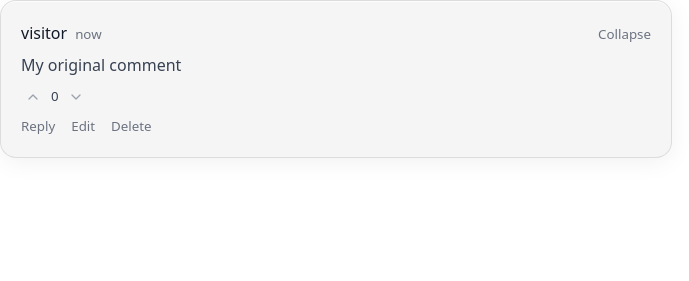
CommentItem edit › shows an Edit button and reveals a prefilled textarea when the comment belongs to the current user
Click the button "Edit" at (83, 127), box [71, 117, 95, 137]
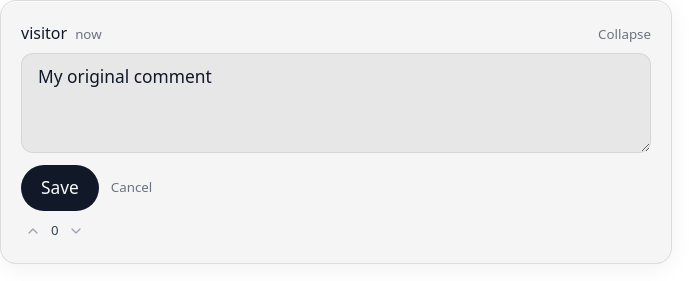
Expected: the text box showing "My original comment" is shown, [21, 53, 651, 153]
